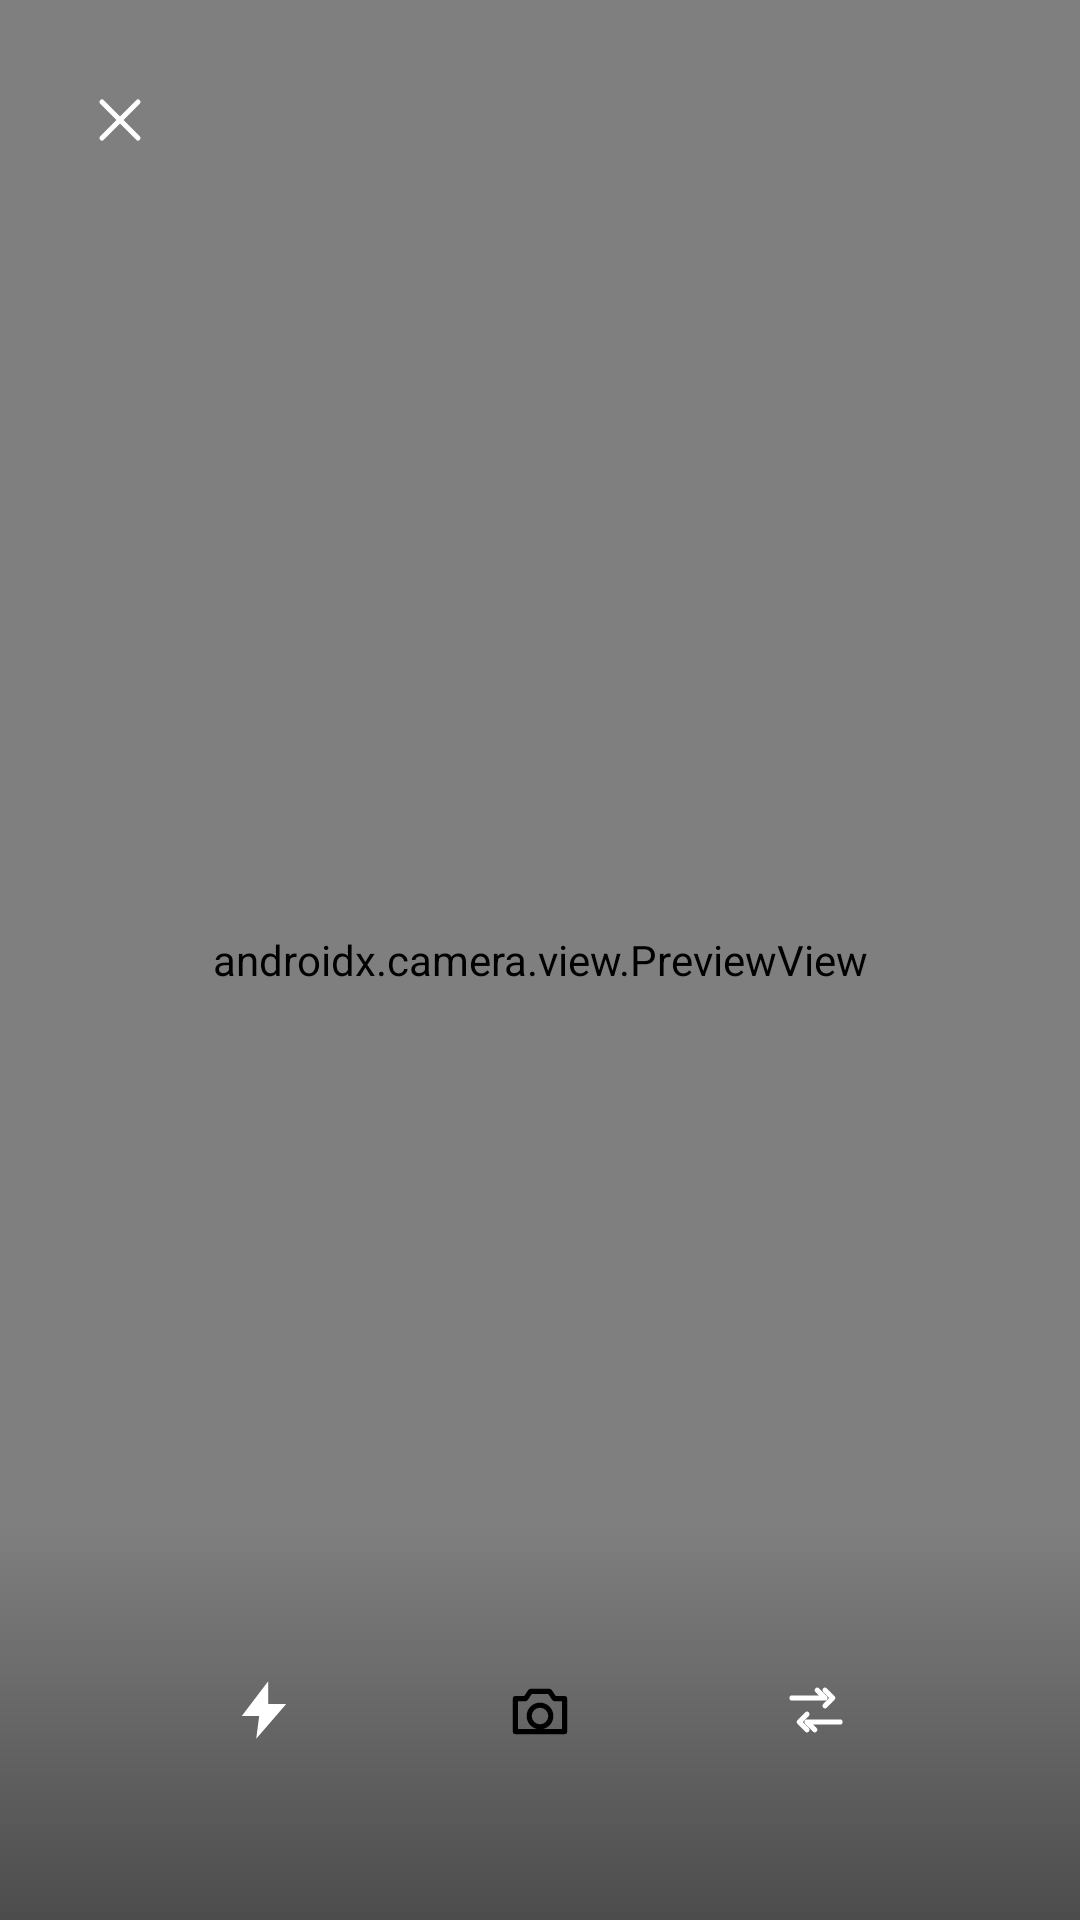

Locate icon controls on the screen. Image size 1080x1920, boxes as (x1, y1, x2, y2).
Close: (99, 99, 141, 141)
